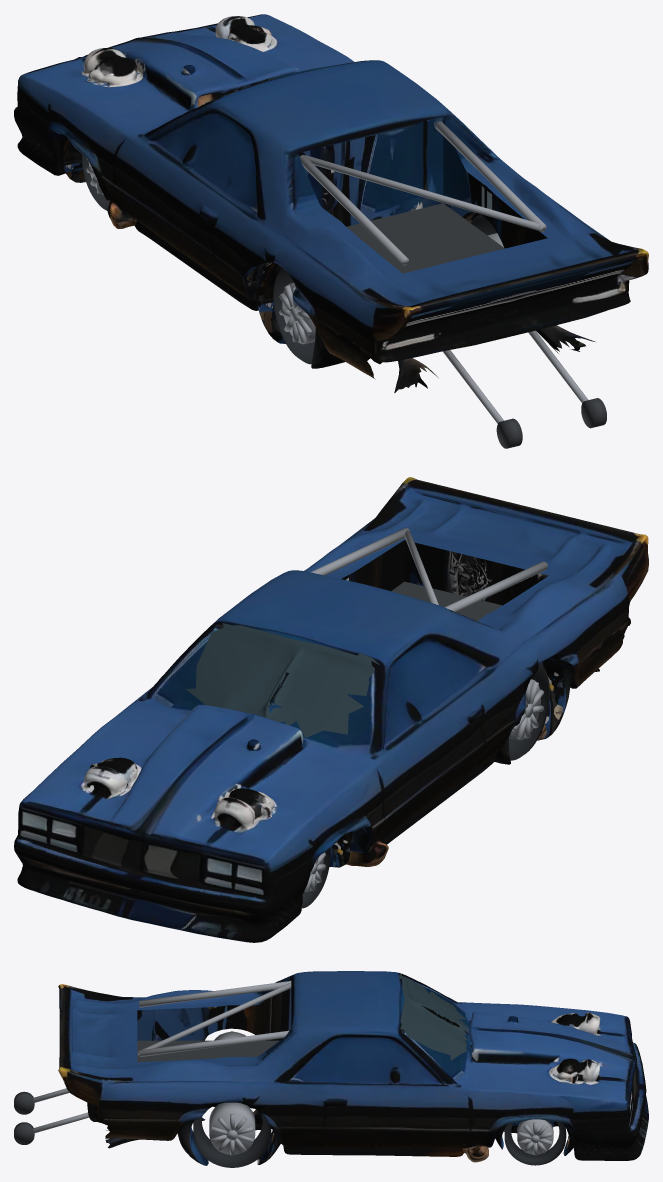
Rendered from mullet.glb.
The picture shows the model from 3 angles, top to bottom: view 1: azimuth 30°, elevation 25°; view 2: azimuth 150°, elevation 25°; view 3: azimuth 270°, elevation 25°; orthographic projection. The views are drawn at different scales.
Parts seen in each view (by area): view 1: body, bed_floor, wheel_rl, bed_crossbrace, bed_rollcage, bed_rollcage.001, wheelie_bar, wheelie_bar.001, wheelie_roller, wheelie_roller.001; view 2: body, wheel_rl, bed_floor, bed_rollcage, bed_rollcage.001, wheel_fl; view 3: body, wheel_rr, wheel_fr, bed_floor, bed_rollcage.001, bed_rollcage, bed_crossbrace, wheelie_roller, wheelie_roller.001, wheelie_bar.001.
Part boxes in pixels (left/top/right/bottom): body: left=14, top=14, right=648, bottom=392; bed_floor: left=346, top=203, right=504, bottom=273; wheel_rl: left=273, top=267, right=315, bottom=364; bed_crossbrace: left=305, top=155, right=542, bottom=231; bed_rollcage: left=300, top=155, right=408, bottom=265; bed_rollcage.001: left=435, top=121, right=546, bottom=232; wheelie_bar: left=442, top=350, right=503, bottom=423; wheelie_bar.001: left=528, top=330, right=588, bottom=402; wheelie_roller: left=496, top=418, right=522, bottom=448; wheelie_roller.001: left=581, top=398, right=606, bottom=428; body: left=14, top=477, right=648, bottom=942; wheel_rl: left=508, top=663, right=549, bottom=760; bed_floor: left=391, top=581, right=502, bottom=621; bed_rollcage: left=445, top=561, right=547, bottom=612; bed_rollcage.001: left=311, top=528, right=409, bottom=575; wheel_fl: left=301, top=848, right=330, bottom=908; body: left=58, top=971, right=648, bottom=1165; wheel_rr: left=193, top=1102, right=271, bottom=1167; wheel_fr: left=504, top=1119, right=566, bottom=1165; bed_floor: left=137, top=1040, right=279, bottom=1062; bed_rollcage.001: left=139, top=1030, right=289, bottom=1056; bed_rollcage: left=139, top=981, right=291, bottom=1007; bed_crossbrace: left=137, top=983, right=291, bottom=1055; wheelie_roller: left=14, top=1091, right=34, bottom=1114; wheelie_roller.001: left=14, top=1122, right=34, bottom=1144; wheelie_bar.001: left=33, top=1112, right=89, bottom=1133.
Bounding box in the file's own units: 2.32 × 1.42 × 6.18.
Materials: 5 (1 with a texture image).
